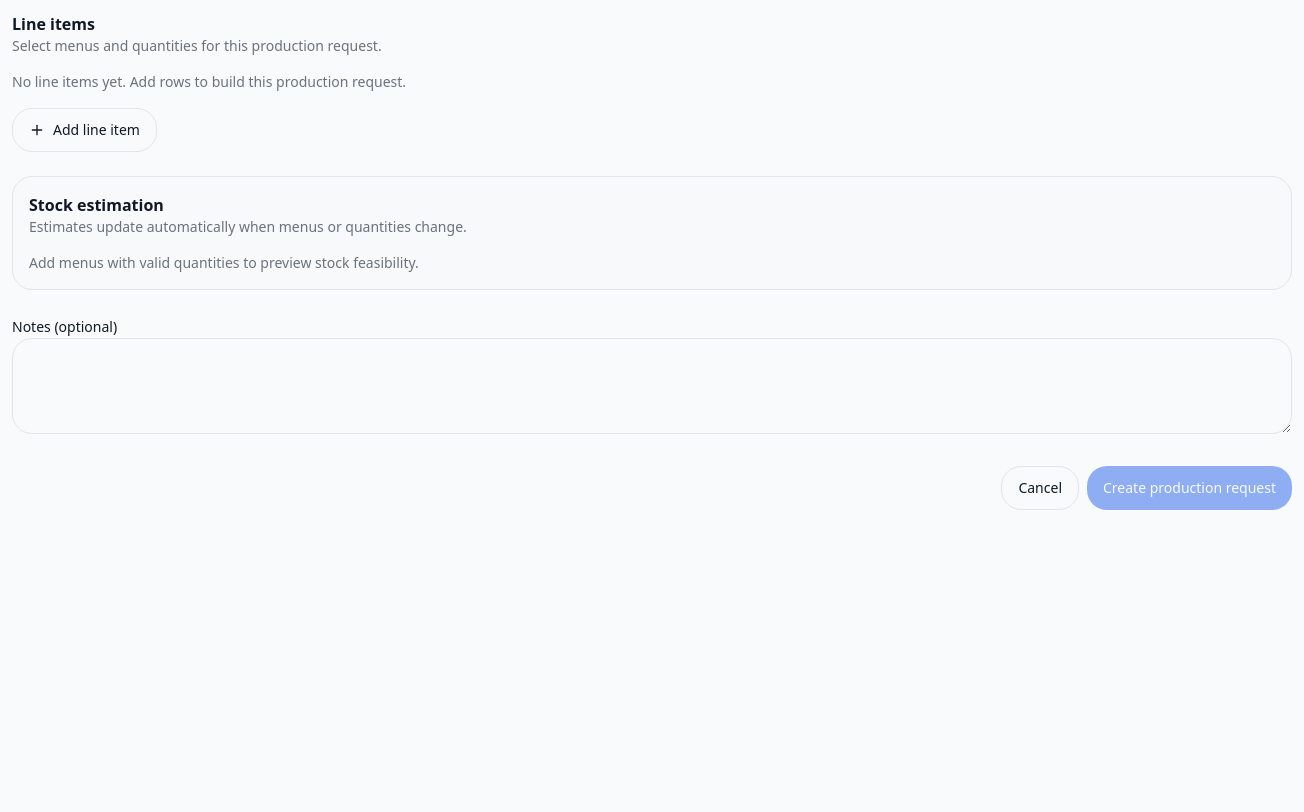
Test case: ProductionRequestForm › applies server item field errors via ref
Click the button "Add line item".
click(84, 130)  # box [12,108,157,152]
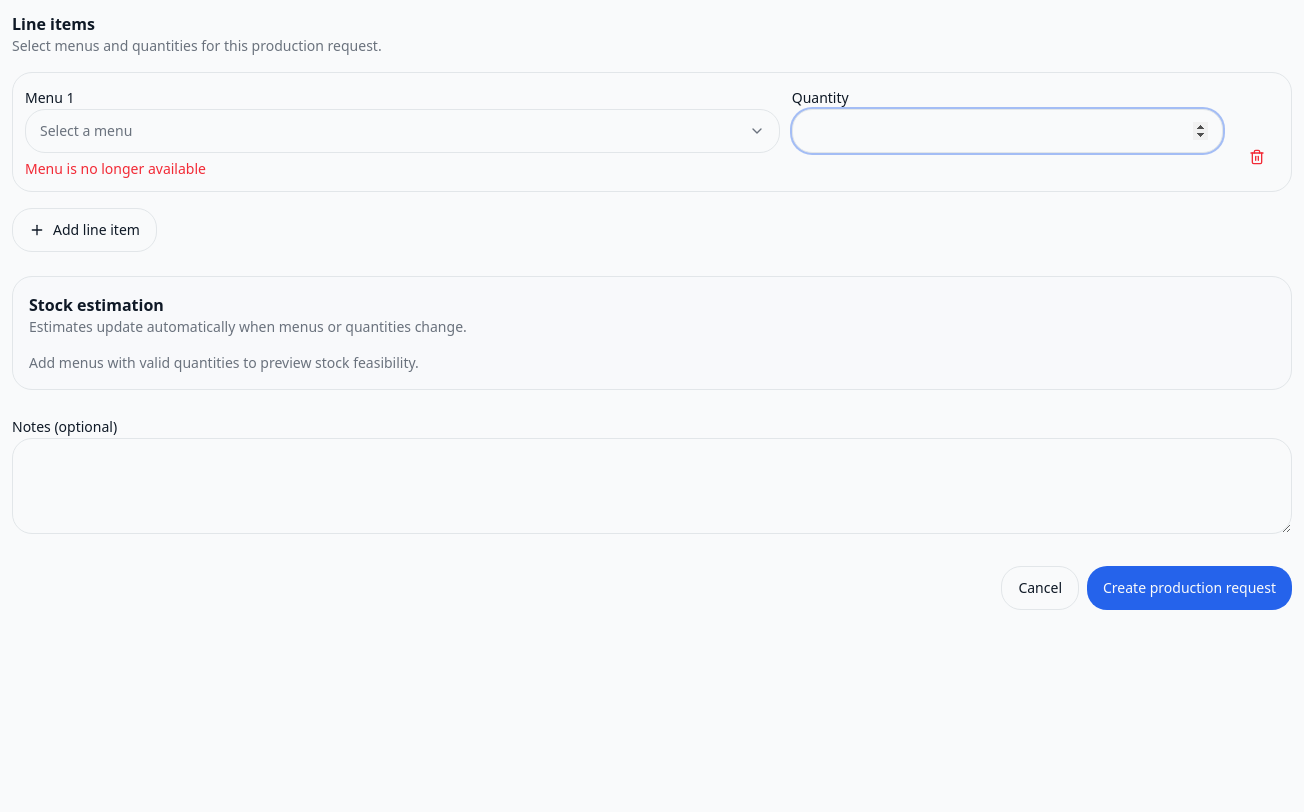
Now the button named "Menu 1" is shown, box [25,109,780,153]
Now the text "Menu is no longer available" is shown, box [25,159,206,178]
